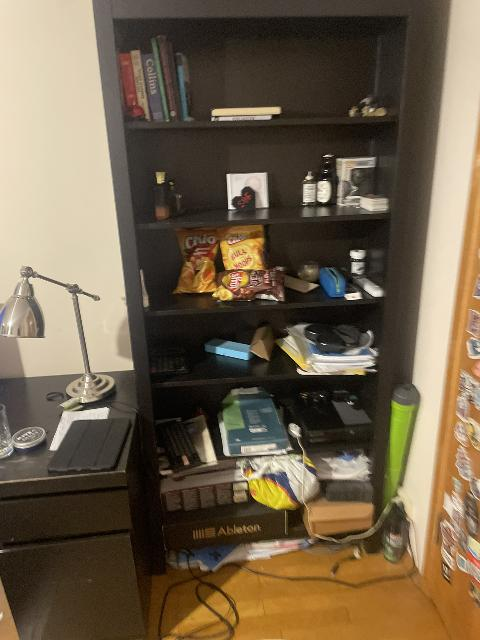Chio Cascaval 125g: (172, 227, 221, 293)
Chio Hula Hoops Cheese 70g: (219, 227, 268, 273)
Lays Beef Grilled Ribs 125g: (212, 268, 285, 301)
